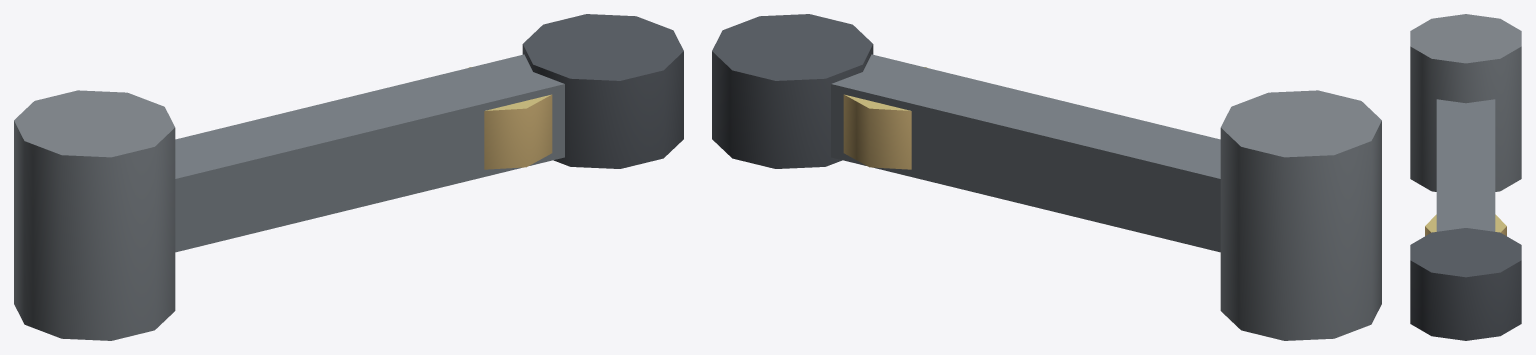
The model's file is t_mortar_b.glb.
3 renders of one model, left to right at view 1: azimuth 30°, elevation 25°; view 2: azimuth 150°, elevation 25°; view 3: azimuth 270°, elevation 25°, orthographic. The views are drawn at different scales.
Parts seen in each view (by area): view 1: t_mortar_b; view 2: t_mortar_b; view 3: t_mortar_b.
Part boxes in pixels (bbox=[...]): t_mortar_b: bbox=[14, 14, 683, 340]; t_mortar_b: bbox=[712, 14, 1381, 340]; t_mortar_b: bbox=[1410, 14, 1521, 340].
Size of the model in its own units: 1.85 by 0.5 by 0.3804.
